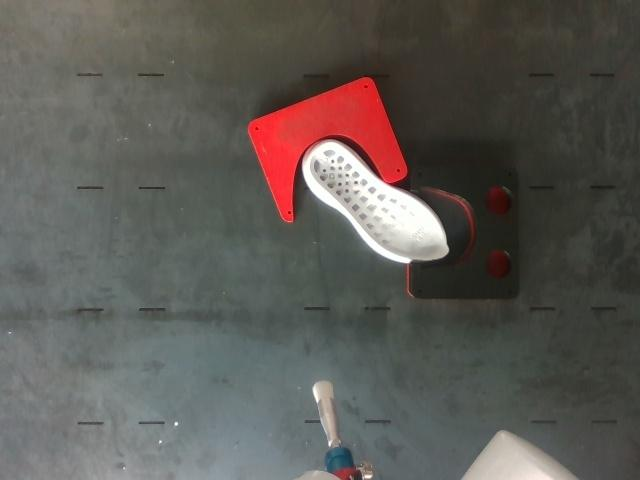shoes: (310, 143, 449, 260)
